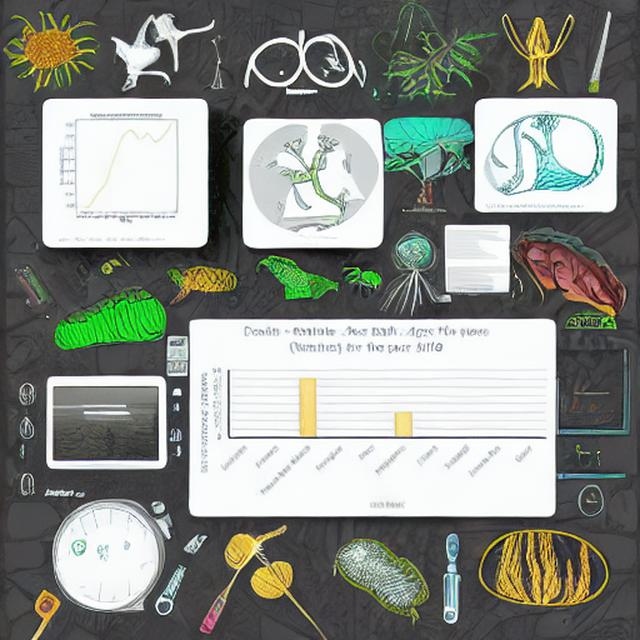Graph: (191, 321, 554, 513), (44, 105, 205, 226), (558, 391, 623, 427), (105, 430, 159, 461)
